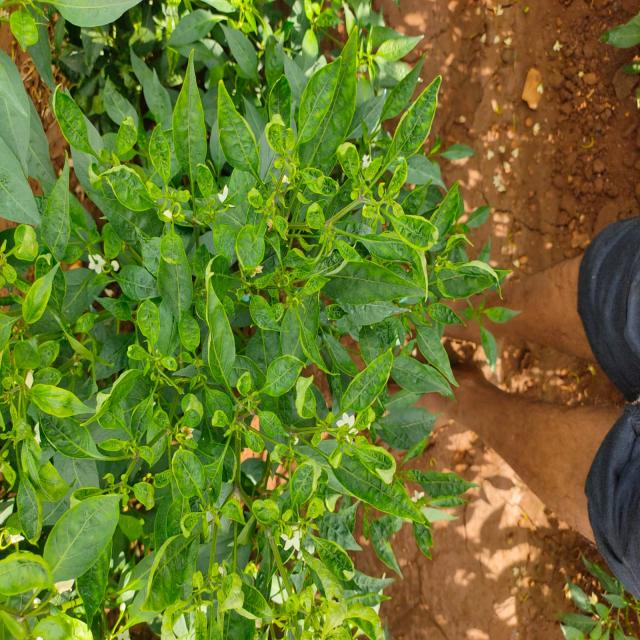Moko: (0, 183, 118, 497), (144, 483, 301, 640), (276, 0, 440, 128), (318, 388, 444, 524), (284, 523, 418, 640), (317, 132, 421, 273), (0, 507, 109, 638), (232, 84, 302, 268), (114, 279, 194, 429), (202, 355, 299, 469), (129, 115, 202, 240), (263, 238, 335, 348)
